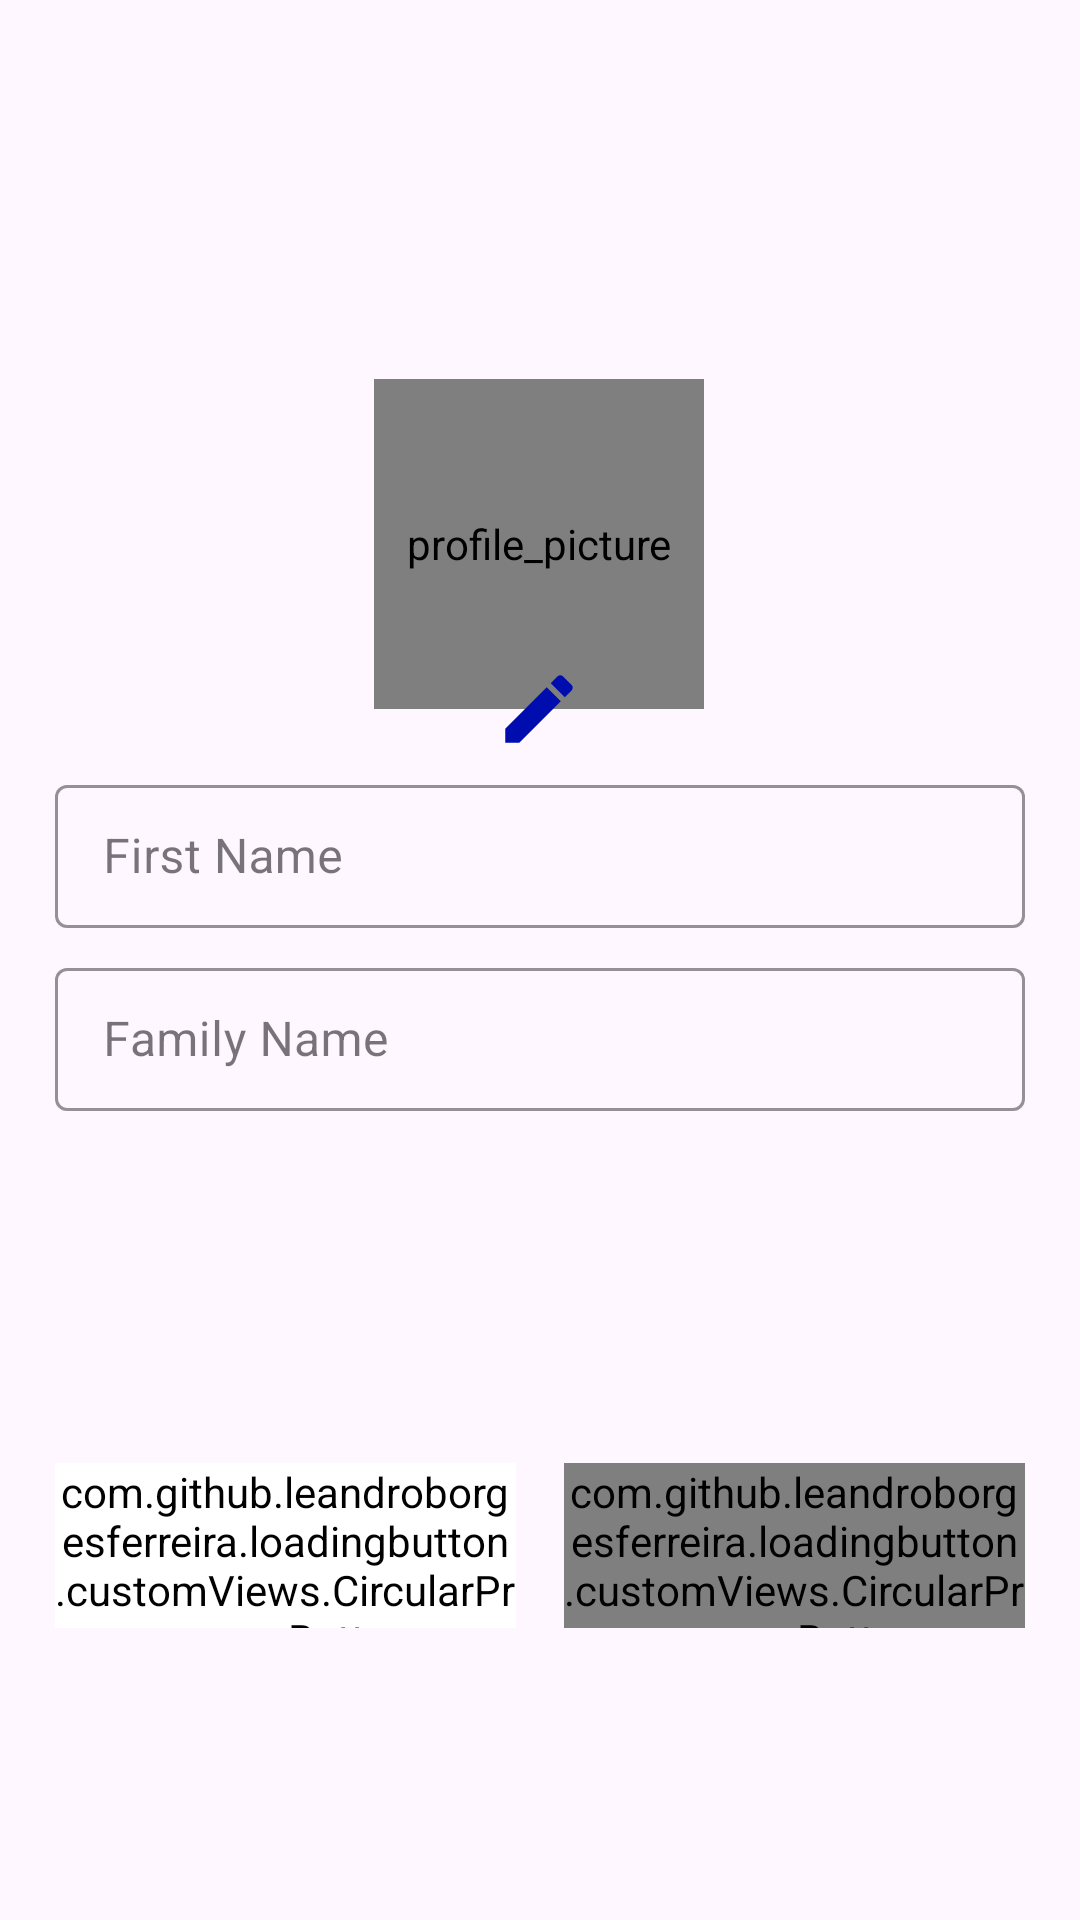

Icon click points for this 1080 × 1920 phone screenshot, format [x,y]:
edit: [539,709]
